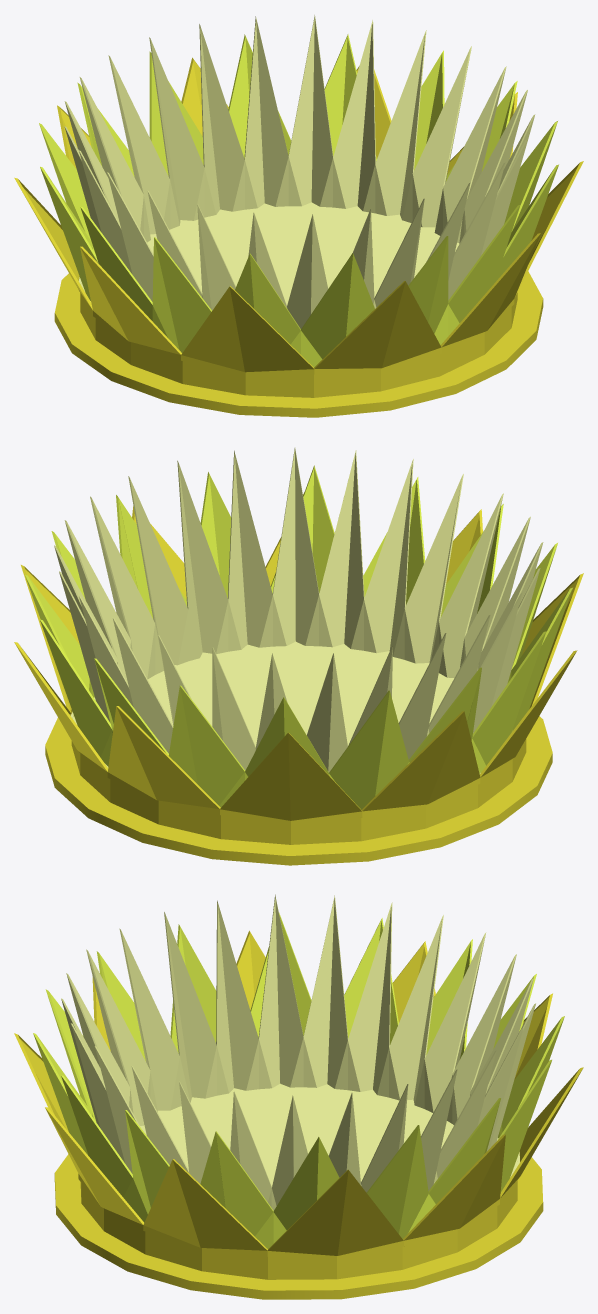
The model's file is portal_000018.obj.
3 views of the same model, one above another, from view 1: azimuth 30°, elevation 25°; view 2: azimuth 150°, elevation 25°; view 3: azimuth 270°, elevation 25° (orthographic). The views are drawn at different scales.
Parts seen in each view (by area): view 1: Cylinder.001, pCylinder1, Cylinder; view 2: Cylinder.001, pCylinder1, Cylinder; view 3: Cylinder.001, pCylinder1, Cylinder.
Boxes of the visible parts, left/top/right/bottom form: Cylinder.001: left=64, top=15, right=535, bottom=328; pCylinder1: left=14, top=57, right=583, bottom=417; Cylinder: left=39, top=34, right=558, bottom=367; Cylinder.001: left=54, top=447, right=543, bottom=772; pCylinder1: left=14, top=492, right=583, bottom=865; Cylinder: left=25, top=465, right=572, bottom=809; Cylinder.001: left=61, top=894, right=535, bottom=1210; pCylinder1: left=14, top=930, right=583, bottom=1299; Cylinder: left=33, top=912, right=564, bottom=1248.
Size of the model in its own units: 7.34 by 2.9 by 7.38.
Materials: 3 (3 with a texture image).
